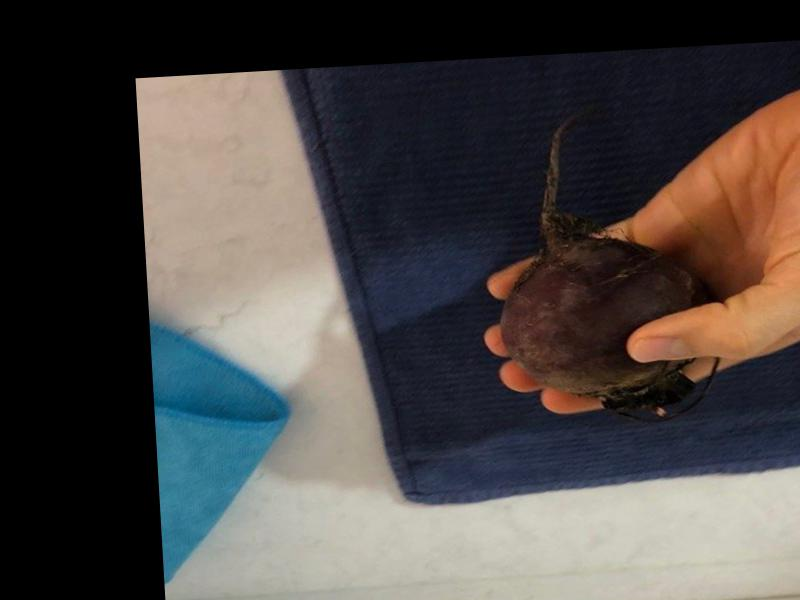Beet: (490, 108, 725, 428)
